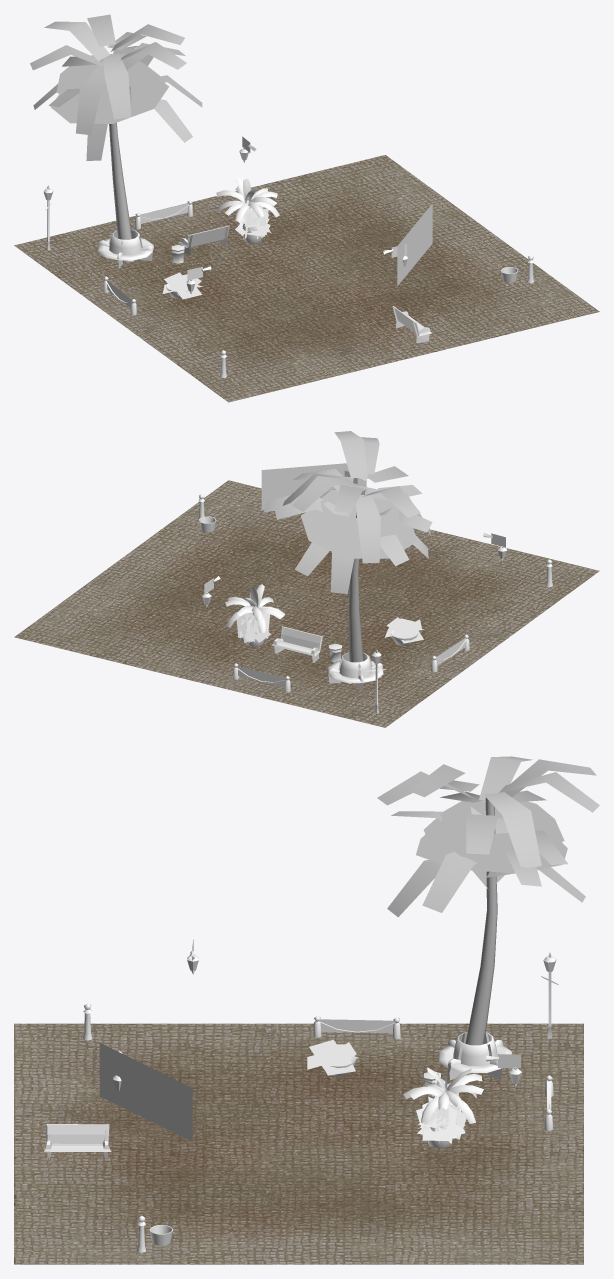
The model's file is propsonly_7.gltf.
3 views of the same model, one above another, from view 1: azimuth 30°, elevation 25°; view 2: azimuth 150°, elevation 25°; view 3: azimuth 270°, elevation 25° (orthographic). The views are drawn at different scales.
Visible parts, largest first — view 1: ground.004, prop_tree7, prop_treepot_tree17, prop_lights7, prop_bench7, prop_bench7.001, prop_treepot_bush7, prop_chain_fence7.001, prop_pot_flower7, prop_bench7.002; view 2: ground.004, prop_tree7, prop_lights7, prop_bench7, prop_treepot_tree17, prop_bench7.001, prop_treepot_bush7, prop_pot_flower7, prop_chain_fence7.001, prop_chain_fence7; view 3: ground.004, prop_tree7, prop_lights7, prop_bench7, prop_treepot_tree17, prop_bench7.002, prop_treepot_bush7, prop_pot_flower7, prop_chain_fence7.
Boxes of the visible parts, left/top/right/bottom form: ground.004: left=14, top=155, right=599, bottom=402; prop_tree7: left=30, top=14, right=202, bottom=262; prop_treepot_tree17: left=216, top=177, right=279, bottom=222; prop_lights7: left=397, top=203, right=432, bottom=285; prop_bench7: left=97, top=229, right=153, bottom=268; prop_bench7.001: left=178, top=225, right=229, bottom=255; prop_treepot_bush7: left=235, top=205, right=271, bottom=238; prop_chain_fence7.001: left=134, top=200, right=192, bottom=229; prop_pot_flower7: left=162, top=272, right=202, bottom=299; prop_bench7.002: left=392, top=306, right=431, bottom=343; ground.004: left=14, top=480, right=599, bottom=727; prop_tree7: left=263, top=431, right=432, bottom=662; prop_lights7: left=261, top=463, right=366, bottom=510; prop_bench7: left=327, top=652, right=383, bottom=691; prop_treepot_tree17: left=225, top=584, right=285, bottom=632; prop_bench7.001: left=272, top=626, right=322, bottom=662; prop_treepot_bush7: left=236, top=612, right=270, bottom=643; prop_pot_flower7: left=384, top=617, right=423, bottom=643; prop_chain_fence7.001: left=233, top=663, right=290, bottom=692; prop_chain_fence7: left=431, top=634, right=469, bottom=672; ground.004: left=14, top=1023, right=583, bottom=1264; prop_tree7: left=377, top=756, right=599, bottom=1073; prop_lights7: left=99, top=1043, right=192, bottom=1141; prop_bench7: left=438, top=1031, right=511, bottom=1080; prop_treepot_tree17: left=403, top=1062, right=483, bottom=1123; prop_bench7.002: left=44, top=1124, right=110, bottom=1160; prop_treepot_bush7: left=416, top=1096, right=466, bottom=1143; prop_pot_flower7: left=307, top=1039, right=358, bottom=1075; prop_chain_fence7: left=313, top=1016, right=400, bottom=1039.
Size of what is drawn, in the model's own units: 3.37 by 2.06 by 3.39.
